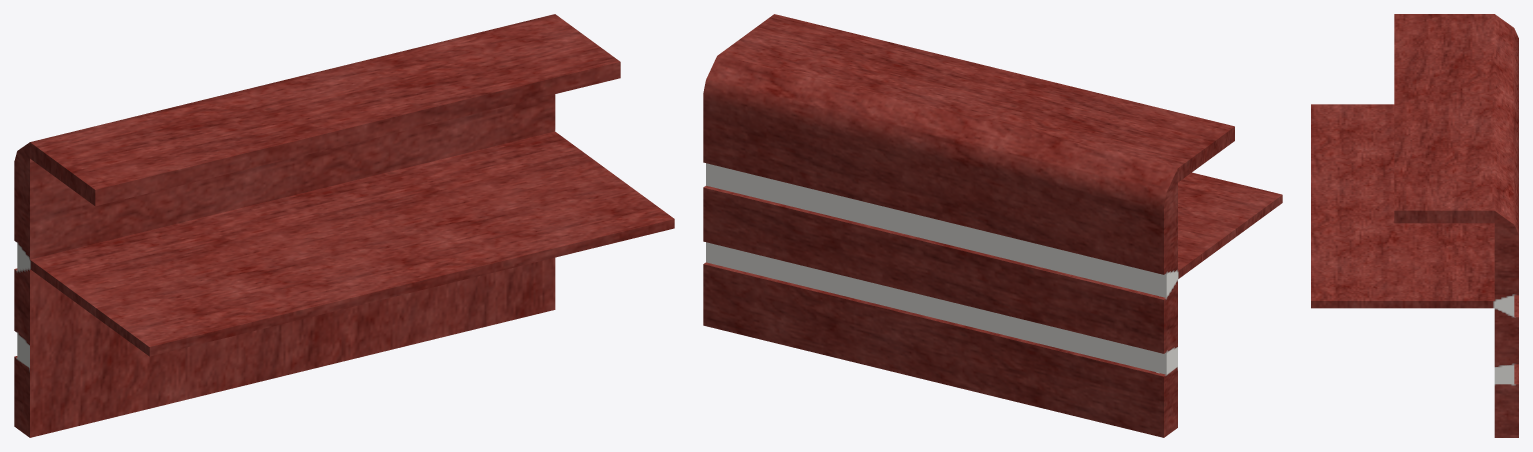
File: ReceptionDesk_Straight.glb
The picture shows the model from 3 angles, left to right: view 1: azimuth 30°, elevation 25°; view 2: azimuth 150°, elevation 25°; view 3: azimuth 270°, elevation 25°; orthographic projection. The views are drawn at different scales.
Parts seen in each view (by area): view 1: StraightDesk; view 2: StraightDesk; view 3: StraightDesk.
Boxes of the visible parts, box(x1,y1,x2,y2) form: StraightDesk: box(14, 14, 674, 437); StraightDesk: box(703, 14, 1282, 437); StraightDesk: box(1311, 14, 1518, 437).
Bounding box in the file's own units: 2 × 1.08 × 0.8926.
1 material, 1 textured.
